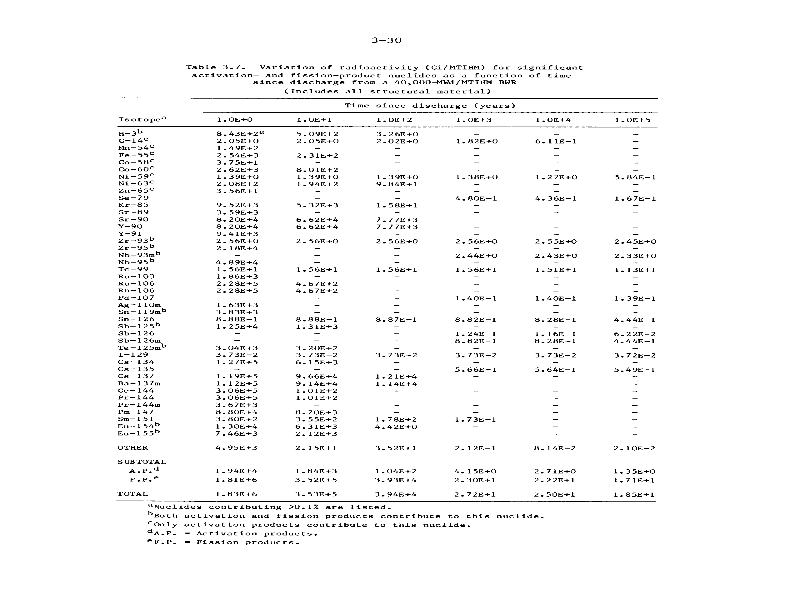table: (109, 113, 700, 502)
